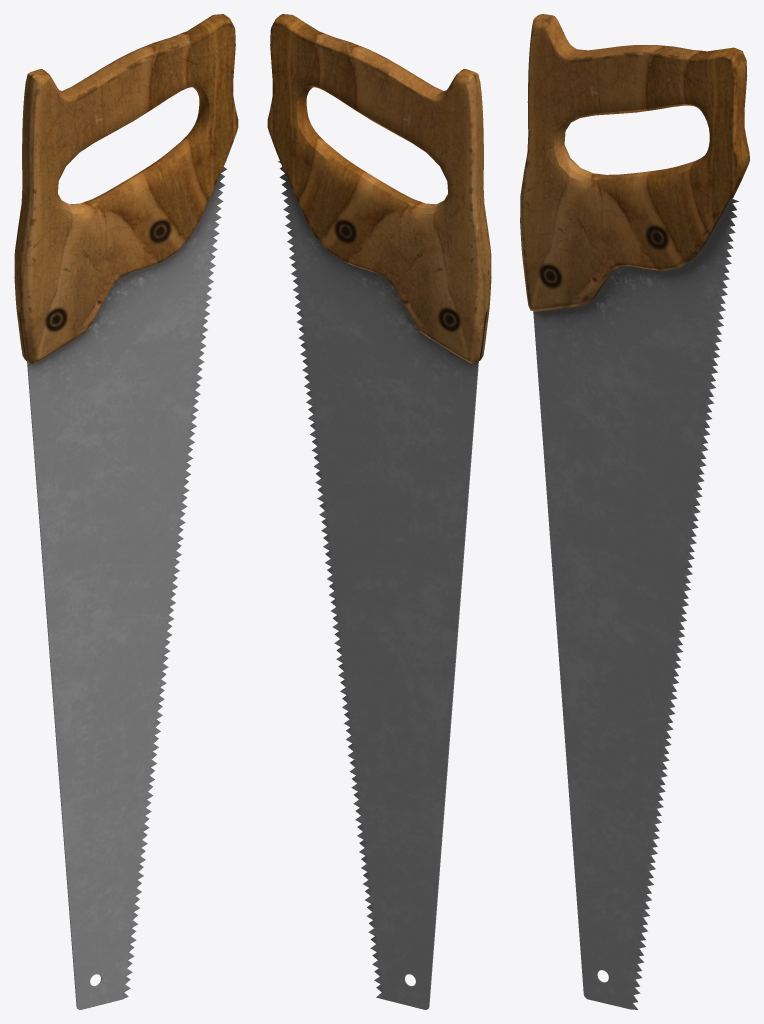
3 views of the same model, side by side, from view 1: azimuth 30°, elevation 25°; view 2: azimuth 150°, elevation 25°; view 3: azimuth 330°, elevation 25° (orthographic). The views are drawn at different scales.
Parts seen in each view (by area): view 1: Hand_saw_blade; view 2: Hand_saw_blade; view 3: Hand_saw_blade.
Part boxes in pixels (x1=…): Hand_saw_blade: x1=14, y1=14, x2=238, y2=1009; Hand_saw_blade: x1=267, y1=14, x2=491, y2=1009; Hand_saw_blade: x1=520, y1=14, x2=749, y2=1009.
Bounding box in the file's own units: 0.3027 × 1.28 × 0.0293.
2 materials, 2 textured.
